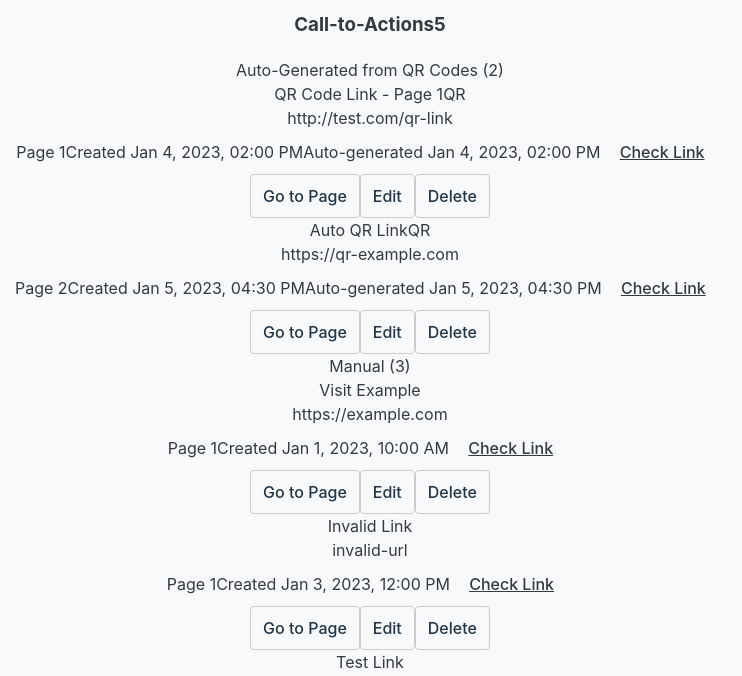
CTAList › shows link status checking functionality
Click the button "Check Link" below "http://test.com/qr-link" at [662, 152], box [600, 130, 724, 174]
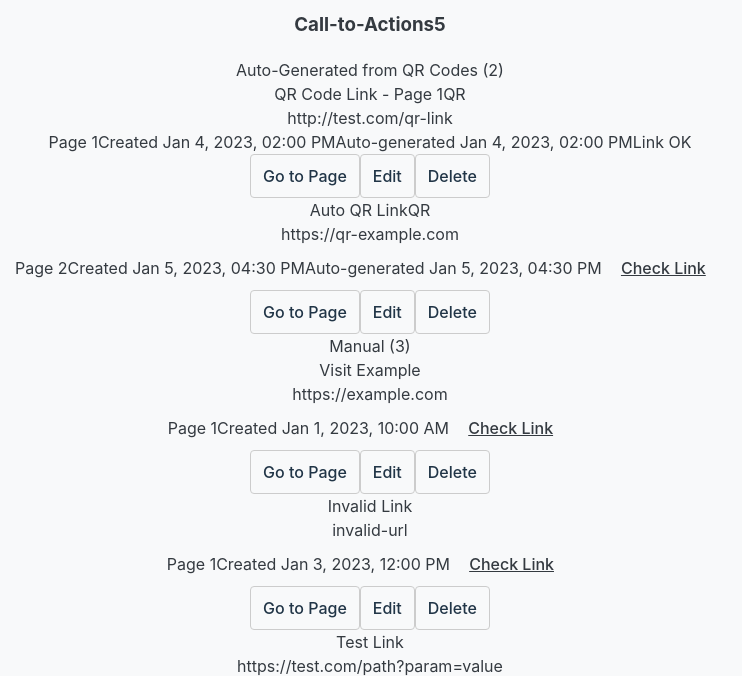
Now the text "Link OK" is shown, box [633, 132, 691, 152]
